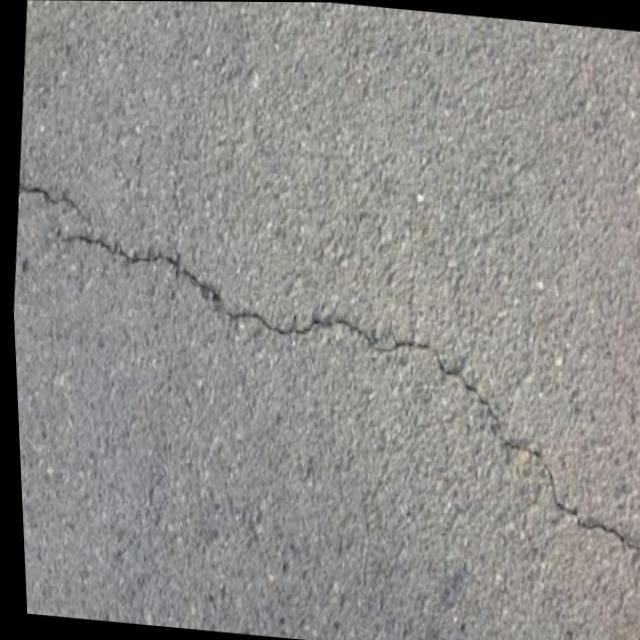Crack: (6, 177, 640, 565)
